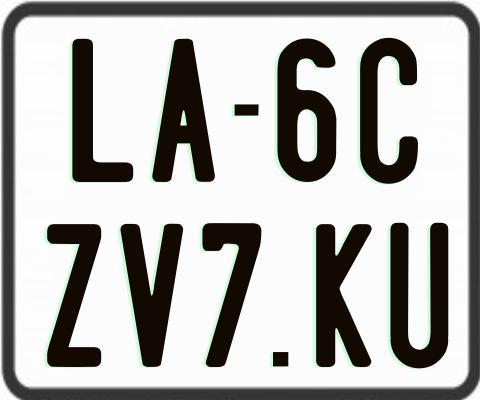6: (274, 39, 336, 188)
7: (202, 220, 265, 365)
A: (151, 36, 220, 180)
C: (358, 37, 416, 186)
K: (315, 221, 376, 365)
L: (70, 39, 132, 183)
U: (390, 222, 453, 369)
V: (119, 221, 183, 367)
Z: (44, 224, 98, 371)
